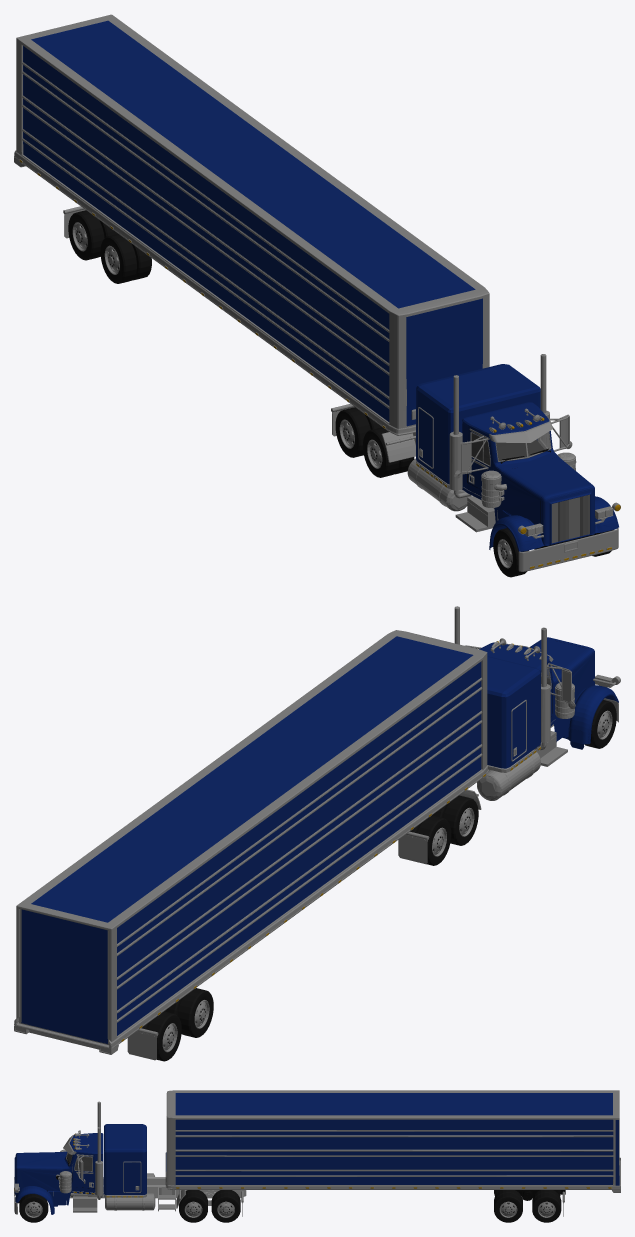
File: peterbilt.obj
3 renders of one model, top to bottom at view 1: azimuth 30°, elevation 25°; view 2: azimuth 150°, elevation 25°; view 3: azimuth 270°, elevation 25°, orthographic. The views are drawn at different scales.
Parts seen in each view (by area): view 1: Cube.001_Cube.005, Cube.004_Cube.010, cab2_Plane.004, hoodGrill_Plane, wheel.007_Cylinder.001, wheel.007_Cylinder.011, cab_Plane.003, bumper_Plane.006, Cube.001, stacks_Cylinder, grill_Cylinder.001, gasTank_Cylinder.016 (+5 smaller); view 2: Cube.001_Cube.005, Cube.004_Cube.010, cab2_Plane.004, wheel.007_Cylinder.001, hoodGrill_Plane, wheel.007_Cylinder.011, gasTank_Cylinder.016, cab_Plane.003, stacks_Cylinder, mudflapRear.001_Cylinder.001, mudflapRear.001_Cylinder.040; view 3: Cube.001_Cube.005, Cube.004_Cube.010, cab2_Plane.004, wheel.007_Cylinder.001, hoodGrill_Plane, wheel.007_Cylinder.011, cab_Plane.003, gasTank_Cylinder.016, base_Cube.001, stacks_Cylinder, door_Plane.005, stairs.001_Cube.002 (+3 smaller).
Boxes of the visible parts, <box> form: Cube.001_Cube.005: <box>14,14,489,435</box>; Cube.004_Cube.010: <box>22,62,389,408</box>; cab2_Plane.004: <box>416,364,540,488</box>; hoodGrill_Plane: <box>489,457,618,551</box>; wheel.007_Cylinder.001: <box>335,407,613,577</box>; wheel.007_Cylinder.011: <box>68,210,151,283</box>; cab_Plane.003: <box>462,402,559,522</box>; bumper_Plane.006: <box>518,528,618,571</box>; Cube.001: <box>467,433,589,549</box>; stacks_Cylinder: <box>449,354,549,498</box>; grill_Cylinder.001: <box>551,494,589,543</box>; gasTank_Cylinder.016: <box>407,458,471,511</box>; Cube.001_Cube.005: <box>14,630,488,1054</box>; Cube.004_Cube.010: <box>117,677,482,1022</box>; cab2_Plane.004: <box>487,656,540,772</box>; wheel.007_Cylinder.001: <box>410,700,616,865</box>; hoodGrill_Plane: <box>529,637,618,744</box>; wheel.007_Cylinder.011: <box>141,988,213,1061</box>; gasTank_Cylinder.016: <box>477,749,540,800</box>; cab_Plane.003: <box>479,642,564,741</box>; stacks_Cylinder: <box>454,606,550,750</box>; mudflapRear.001_Cylinder.001: <box>398,831,429,864</box>; mudflapRear.001_Cylinder.040: <box>127,1028,158,1060</box>; Cube.001_Cube.005: <box>165,1090,620,1192</box>; Cube.004_Cube.010: <box>175,1130,613,1176</box>; cab2_Plane.004: <box>104,1124,146,1197</box>; wheel.007_Cylinder.001: <box>19,1190,240,1222</box>; hoodGrill_Plane: <box>14,1152,62,1214</box>; wheel.007_Cylinder.011: <box>494,1190,561,1222</box>; cab_Plane.003: <box>53,1133,103,1205</box>; gasTank_Cylinder.016: <box>105,1173,155,1210</box>; base_Cube.001: <box>53,1177,246,1205</box>; stacks_Cylinder: <box>95,1101,102,1199</box>; door_Plane.005: <box>72,1153,95,1188</box>; stairs.001_Cube.002: <box>73,1196,97,1212</box>.
Size of the model in its own units: 287 by 403 by 2105.
